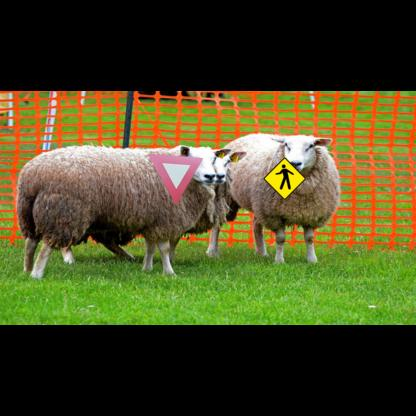A-32a: (263, 157, 306, 200)
R-2: (148, 153, 203, 206)
